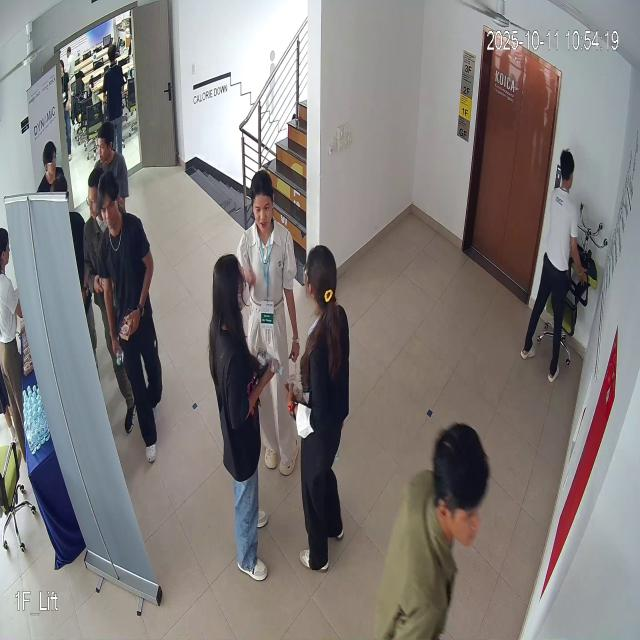face: (91, 166, 129, 235), (248, 165, 276, 242)
